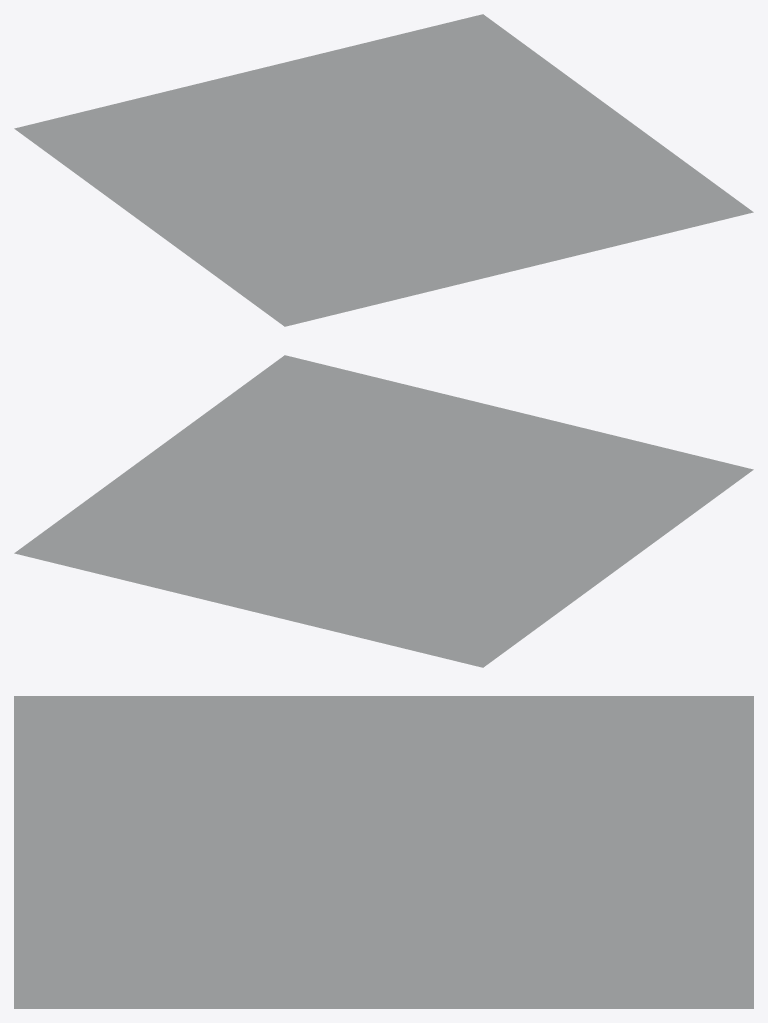
The model's file is Ceiling_type_A_025.fbx.
3 views of the same model, one above another, from view 1: azimuth 30°, elevation 25°; view 2: azimuth 150°, elevation 25°; view 3: azimuth 270°, elevation 25° (orthographic). The views are drawn at different scales.
Visible parts, largest first — view 1: Ceiling_type_A_025; view 2: Ceiling_type_A_025; view 3: Ceiling_type_A_025.
Part boxes in pixels (x1,y1,x2,y2): Ceiling_type_A_025: [14, 14, 753, 326]; Ceiling_type_A_025: [14, 355, 753, 667]; Ceiling_type_A_025: [14, 696, 753, 1008].
Size of the model in its own units: 400 by 400 by 6.18.
